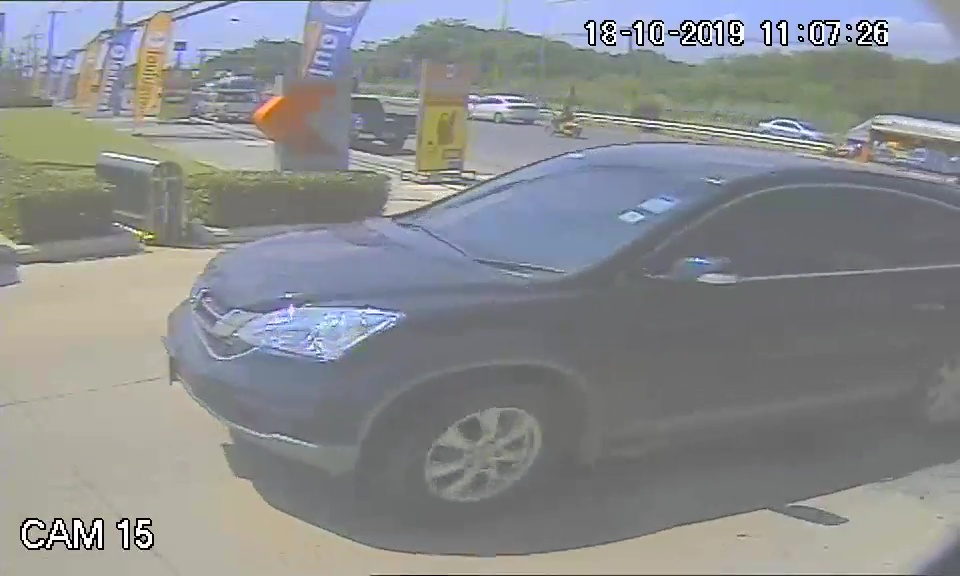pickup: (155, 135, 956, 521)
